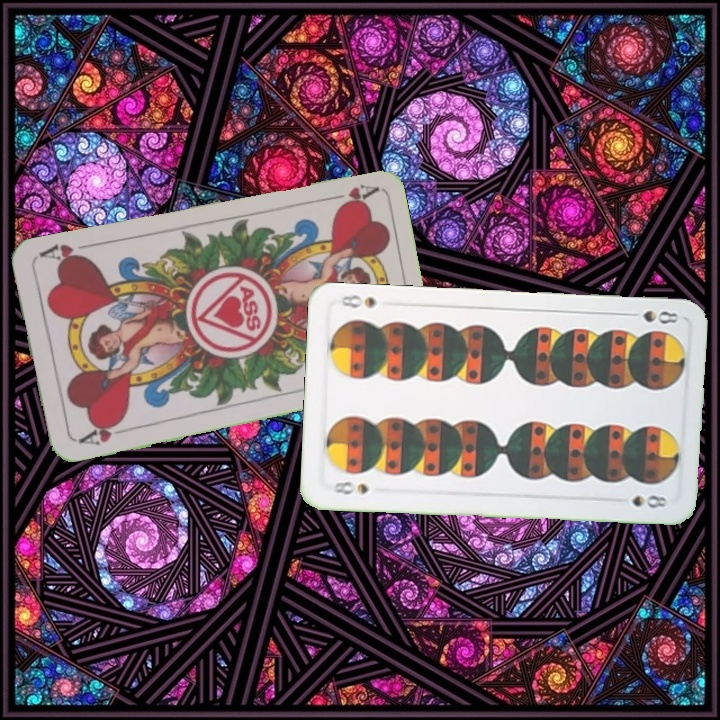HA: (320, 179, 379, 212), (71, 416, 130, 448)
S8: (622, 306, 681, 327), (326, 477, 372, 497)
